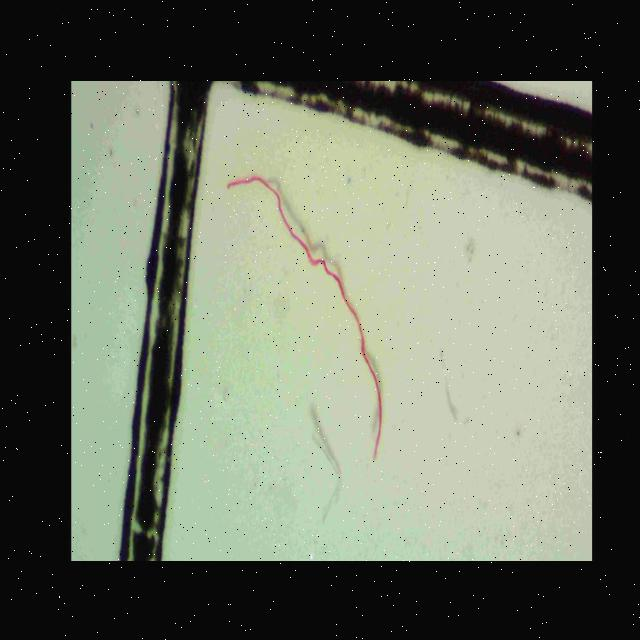Fibre: (226, 170, 397, 464)
